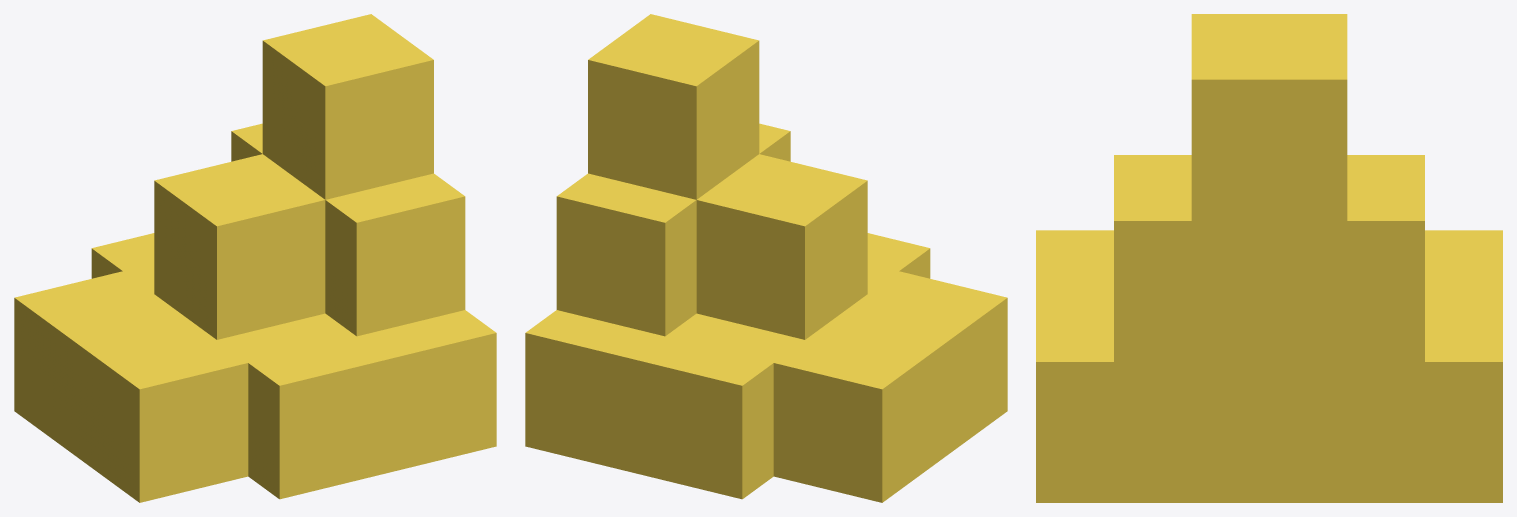
File: gold-fragment.glb
The picture shows the model from 3 angles, left to right: view 1: azimuth 30°, elevation 25°; view 2: azimuth 150°, elevation 25°; view 3: azimuth 270°, elevation 25°; orthographic projection. The views are drawn at different scales.
Parts seen in each view (by area): view 1: generated(Clone); view 2: generated(Clone); view 3: generated(Clone).
Boxes of the visible parts, left/top/right/bottom form: generated(Clone): left=14, top=14, right=496, bottom=502; generated(Clone): left=525, top=14, right=1007, bottom=502; generated(Clone): left=1036, top=14, right=1502, bottom=502.
Bounding box in the file's own units: 3 × 3 × 3.
1 material, 1 textured.
